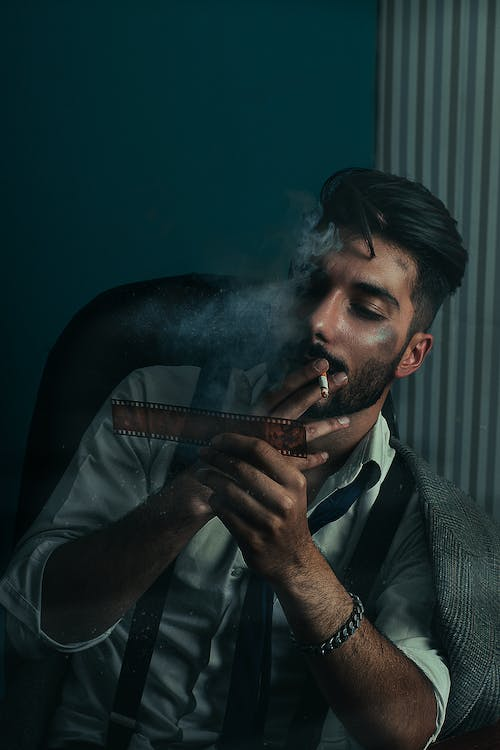cigarette: (317, 369, 335, 401)
